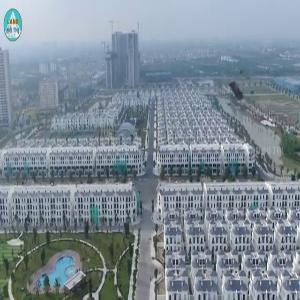drone: (215, 63, 270, 118)
